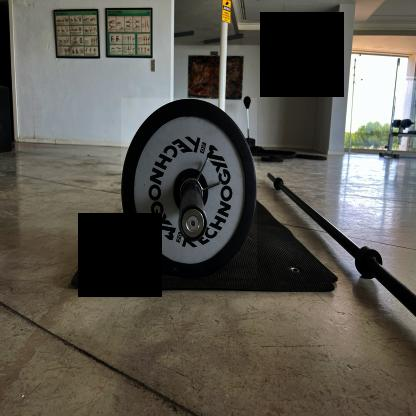barbell: (122, 99, 258, 279)
